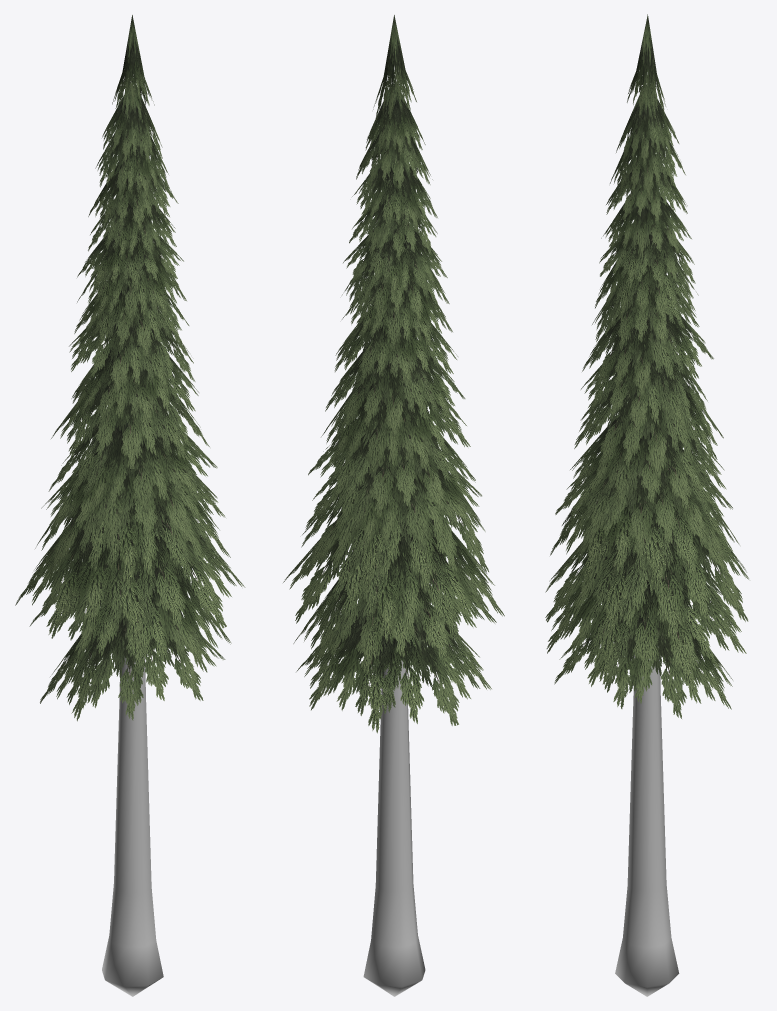
The model's file is Pine_10.fbx.
3 renders of one model, left to right at view 1: azimuth 30°, elevation 25°; view 2: azimuth 150°, elevation 25°; view 3: azimuth 270°, elevation 25°, orthographic.
Parts seen in each view (by area): view 1: polySurface23; view 2: polySurface23; view 3: polySurface23.
Part boxes in pixels (x1,y1,x2,y2): polySurface23: (15,15,245,996); polySurface23: (283,15,504,996); polySurface23: (545,14,748,996).
Size of the model in its own units: 4.07 by 18.82 by 3.91.
